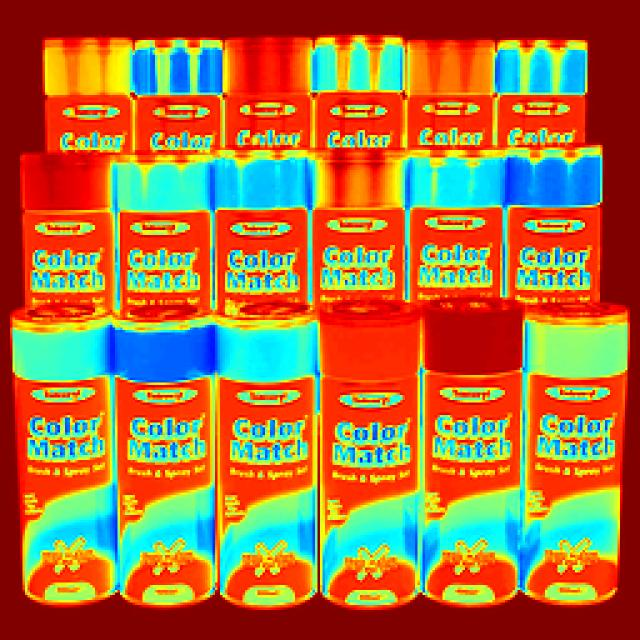Aerosol Cans: (406, 282, 535, 619), (112, 302, 228, 618), (524, 286, 630, 620), (323, 283, 427, 609), (12, 305, 118, 618), (217, 295, 322, 603), (103, 143, 215, 324), (206, 146, 315, 318), (10, 139, 114, 306), (407, 148, 519, 302), (508, 138, 612, 292), (314, 141, 408, 294), (224, 25, 330, 150), (33, 27, 144, 146), (492, 34, 606, 144), (128, 31, 228, 152), (311, 21, 409, 143), (408, 27, 500, 145)
